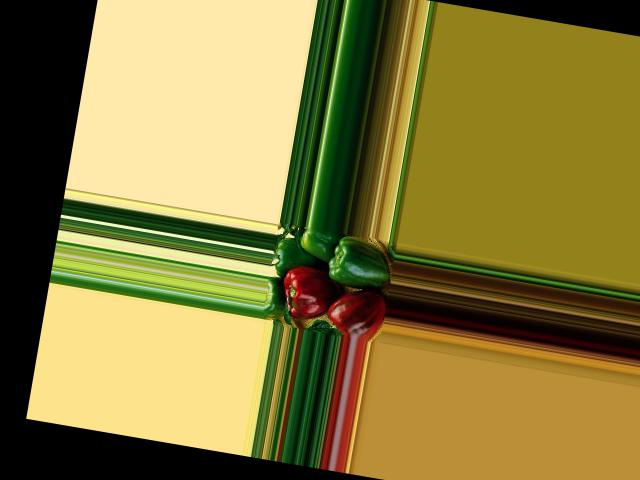bell_pepper: (324, 286, 388, 341)
